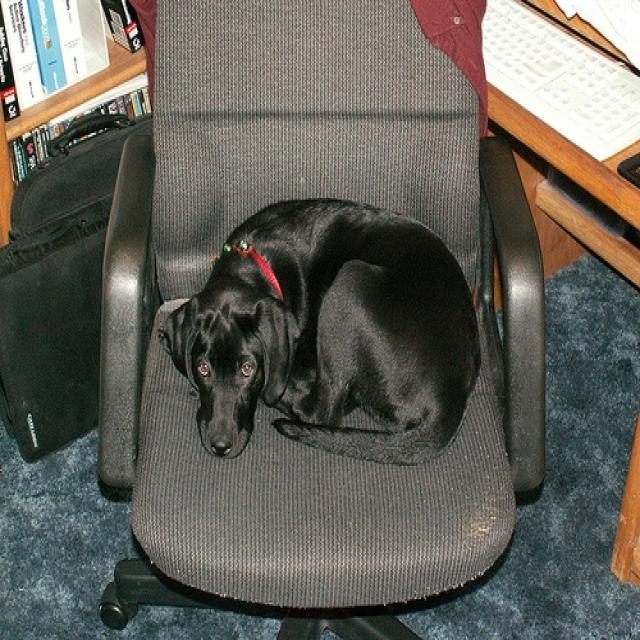chair: (95, 1, 547, 639)
dog: (157, 196, 485, 469)
